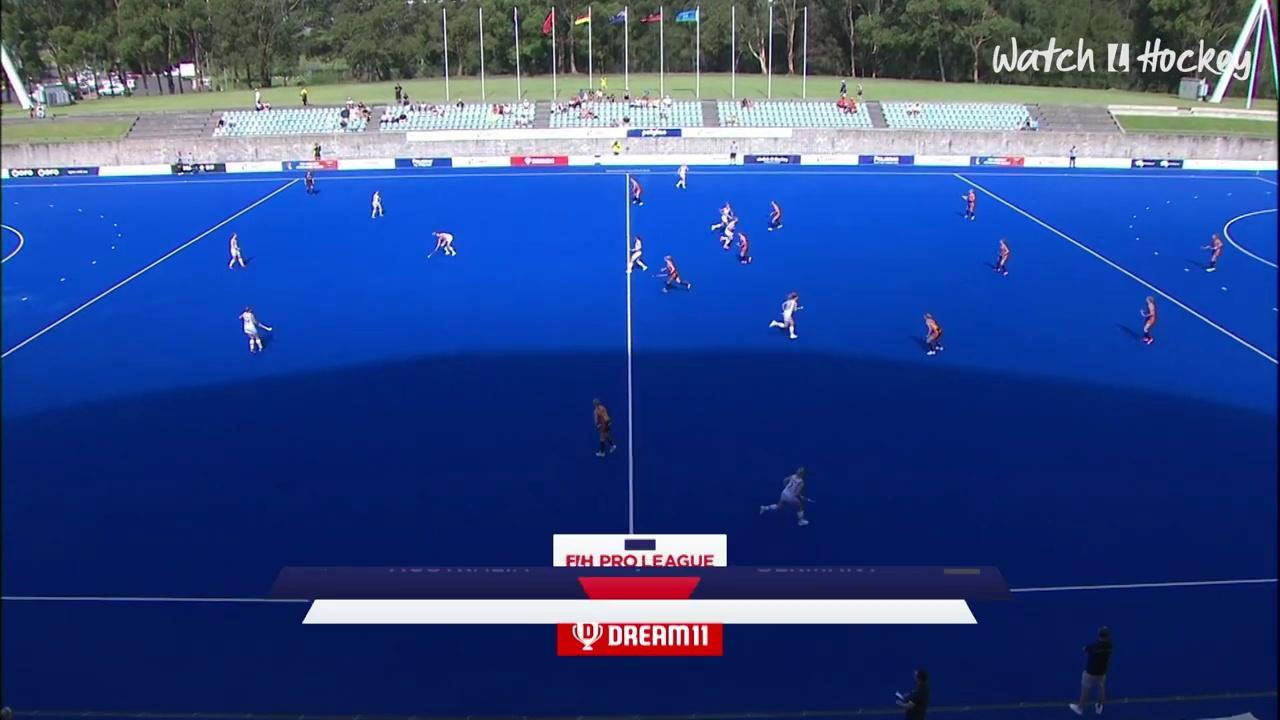ball: (424, 243, 434, 265)
